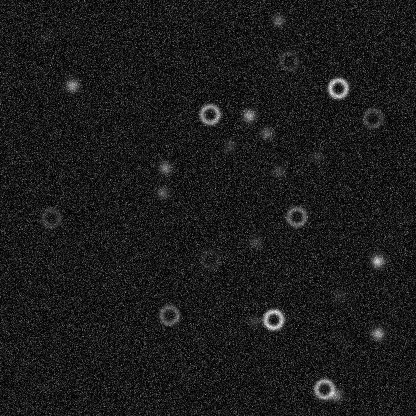Ring: (38, 205, 62, 229), (284, 204, 308, 228), (197, 102, 221, 126), (325, 76, 349, 100), (157, 303, 181, 327), (360, 105, 384, 129), (276, 48, 300, 72), (197, 246, 221, 270), (261, 307, 285, 331), (312, 376, 336, 400)
Spot: (258, 124, 274, 140), (270, 163, 286, 179), (309, 147, 325, 163), (247, 234, 263, 250), (270, 12, 286, 28), (240, 107, 256, 123), (327, 387, 343, 403), (38, 29, 54, 45), (331, 287, 347, 303), (64, 77, 80, 93), (246, 313, 262, 329), (221, 137, 237, 153), (157, 159, 173, 175), (369, 252, 385, 268), (154, 184, 170, 200), (369, 325, 385, 341)
